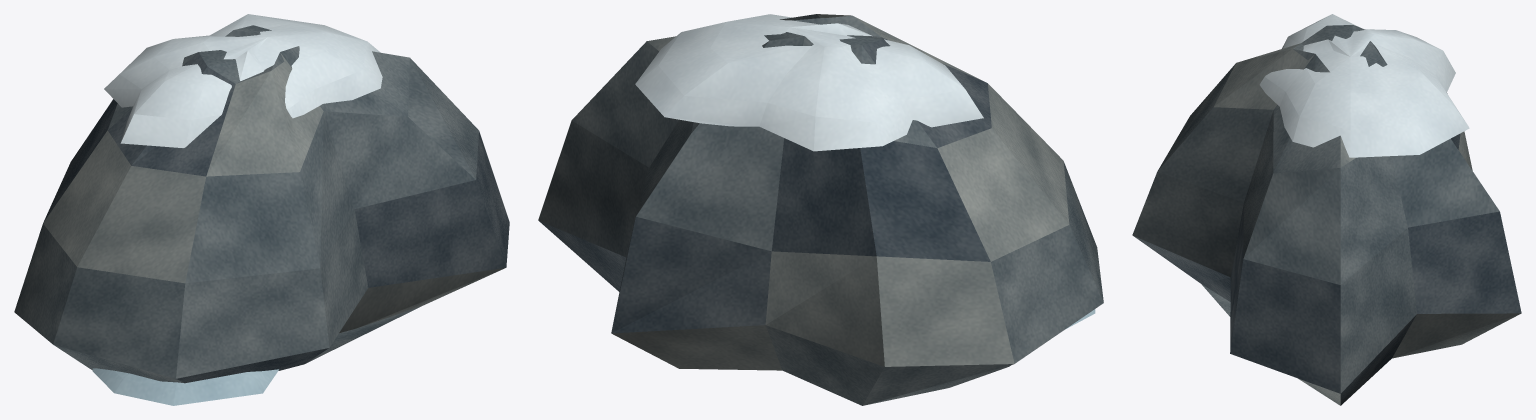
File: 19_Snow_Capped_Boulder.obj
3 renders of one model, left to right at view 1: azimuth 30°, elevation 25°; view 2: azimuth 150°, elevation 25°; view 3: azimuth 270°, elevation 25°, orthographic. The views are drawn at different scales.
Parts seen in each view (by area): view 1: 19_Snow_Capped_Boulder; view 2: 19_Snow_Capped_Boulder; view 3: 19_Snow_Capped_Boulder.
Part boxes in pixels (x1,y1,x2,y2): 19_Snow_Capped_Boulder: (14, 14, 509, 405); 19_Snow_Capped_Boulder: (538, 14, 1103, 405); 19_Snow_Capped_Boulder: (1132, 14, 1521, 405).
Size of the model in its own units: 1.88 by 1.1 by 1.37.
Materials: 5 (5 with a texture image).
